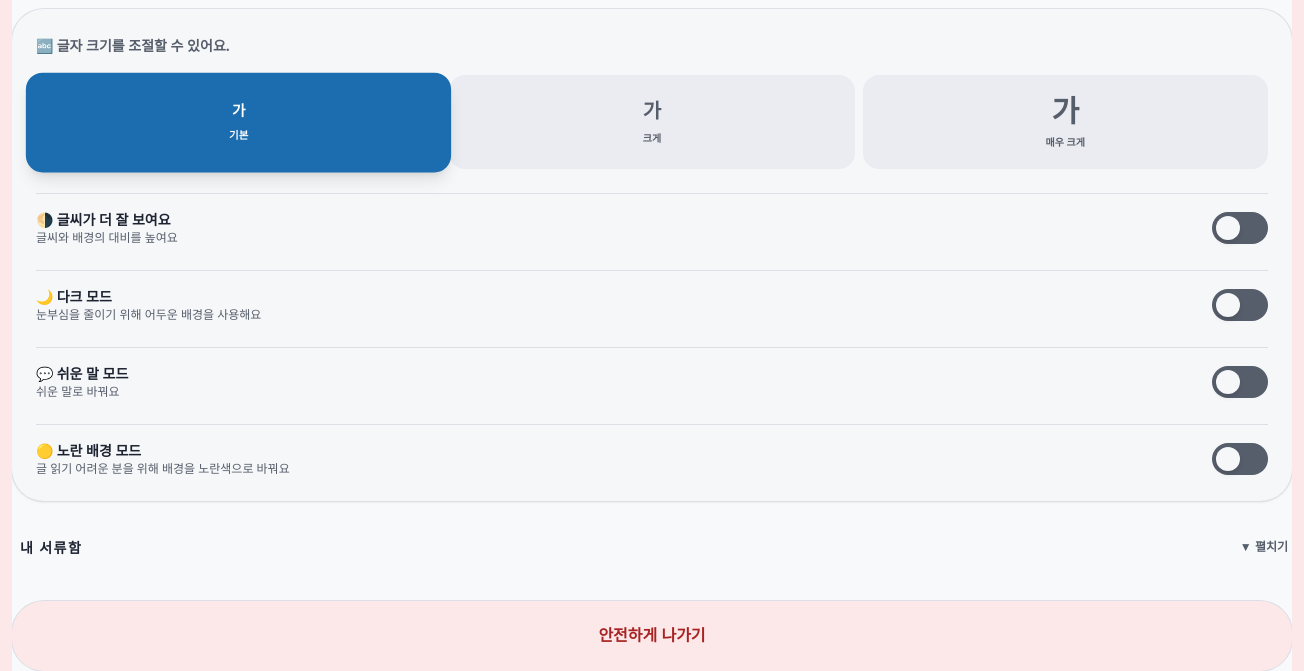
Test: P6-C 장식 이모지 — 더보기 (moremenu-emoji-hidden) › 모든 섹션을 펼쳐도 스크린리더에 노출되는 이모지가 없다
(page scrolled)
Click the button named "내 서류함 펼치기" at {"x": 51, "y": 547}, box [12,525,1292,569]
(page scrolled)
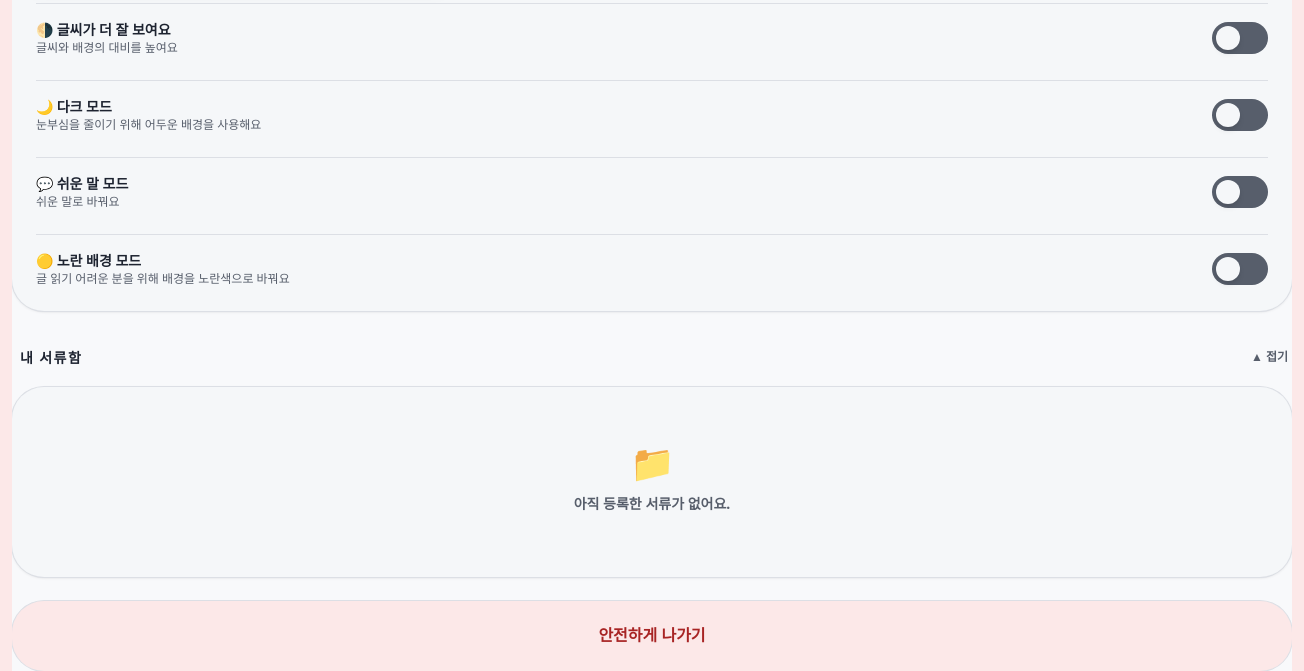
Expected: the text "아직 등록한 서류가 없어요." is shown, [574,494,730,513]
